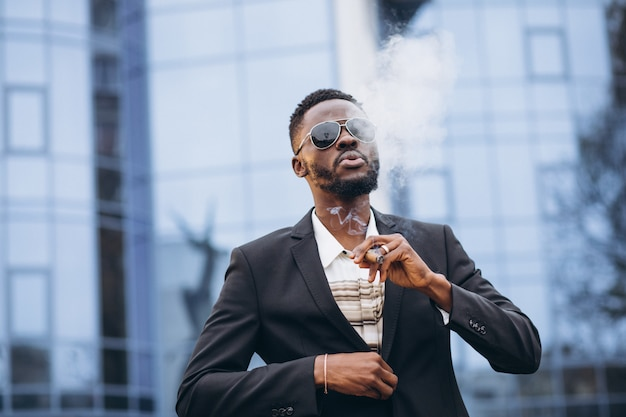cigarette: (362, 251, 384, 265)
